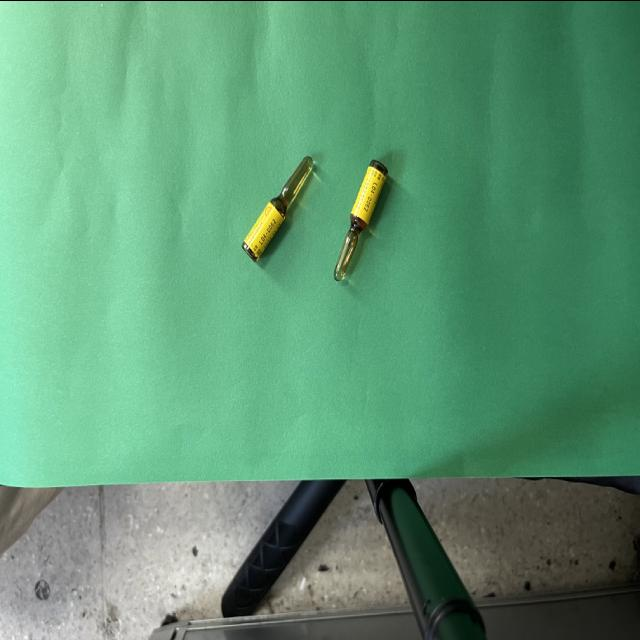Ampoules: (242, 156, 313, 261), (334, 161, 387, 280)
